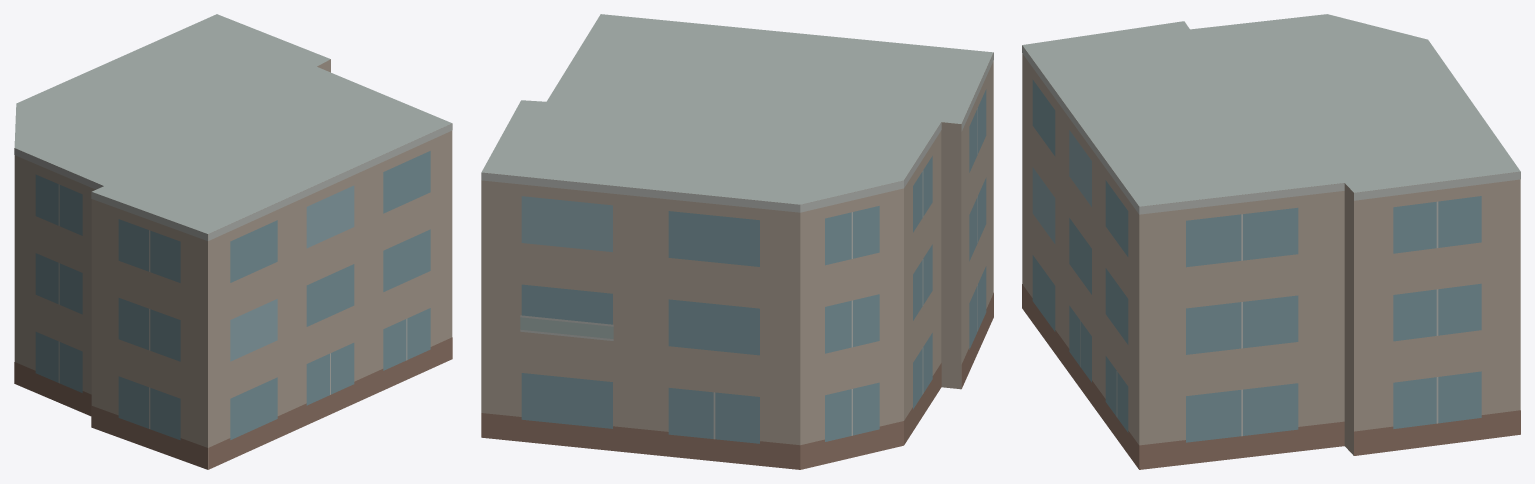
File: survey-upis-32661992.glb
3 renders of one model, left to right at view 1: azimuth 30°, elevation 25°; view 2: azimuth 150°, elevation 25°; view 3: azimuth 270°, elevation 25°, orthographic. The views are drawn at different scales.
Parts seen in each view (by area): view 1: survey-upis-32661992.tmp; view 2: survey-upis-32661992.tmp; view 3: survey-upis-32661992.tmp.
Boxes of the visible parts, box(x1,y1,x2,y2) form: survey-upis-32661992.tmp: box(14, 14, 452, 469); survey-upis-32661992.tmp: box(481, 14, 993, 469); survey-upis-32661992.tmp: box(1022, 14, 1520, 469).
Size of the model in its own units: 12.73 by 8.1 by 13.92.
